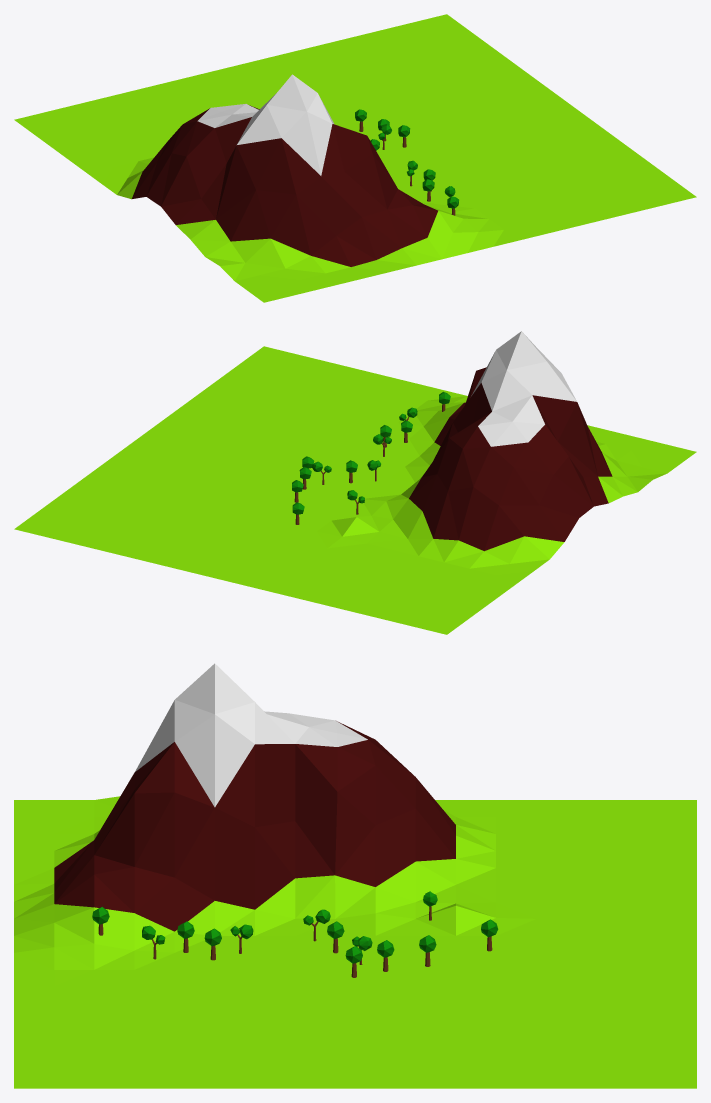
File: mountain.fbx
3 views of the same model, one above another, from view 1: azimuth 30°, elevation 25°; view 2: azimuth 150°, elevation 25°; view 3: azimuth 270°, elevation 25° (orthographic). The views are drawn at different scales.
Parts seen in each view (by area): view 1: 平面; view 2: 平面; view 3: 平面.
Part boxes in pixels (bbox=[...]): 平面: bbox=[14, 14, 696, 302]; 平面: bbox=[14, 331, 696, 634]; 平面: bbox=[14, 663, 696, 1088].
Size of the model in its own units: 1600 by 530 by 1600.
